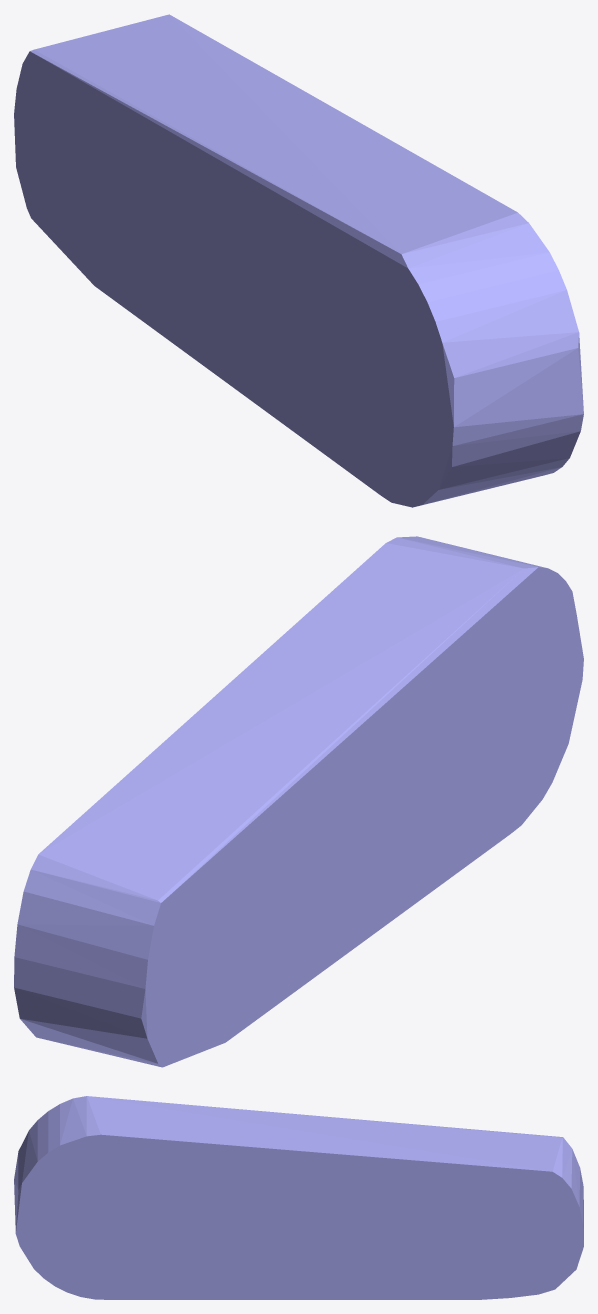
Rendered from dvkr_robot_Lp21_respondable_ECM_coll_1.dae.
The picture shows the model from 3 angles, top to bottom: view 1: azimuth 30°, elevation 25°; view 2: azimuth 150°, elevation 25°; view 3: azimuth 270°, elevation 25°; orthographic projection. The views are drawn at different scales.
Parts seen in each view (by area): view 1: Node_0000023514CD9BB0; view 2: Node_0000023514CD9BB0; view 3: Node_0000023514CD9BB0.
Boxes of the visible parts, box(x1,y1,x2,y2) form: Node_0000023514CD9BB0: box(14, 14, 583, 507); Node_0000023514CD9BB0: box(14, 536, 583, 1067); Node_0000023514CD9BB0: box(14, 1096, 583, 1299).
Size of the model in its own units: 0.07 by 0.1299 by 0.406.
